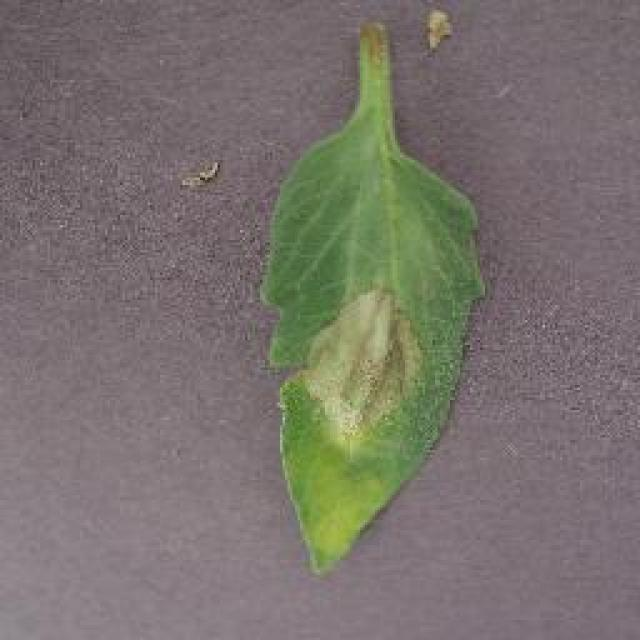Tomato___Late_blight: (262, 22, 482, 570)
